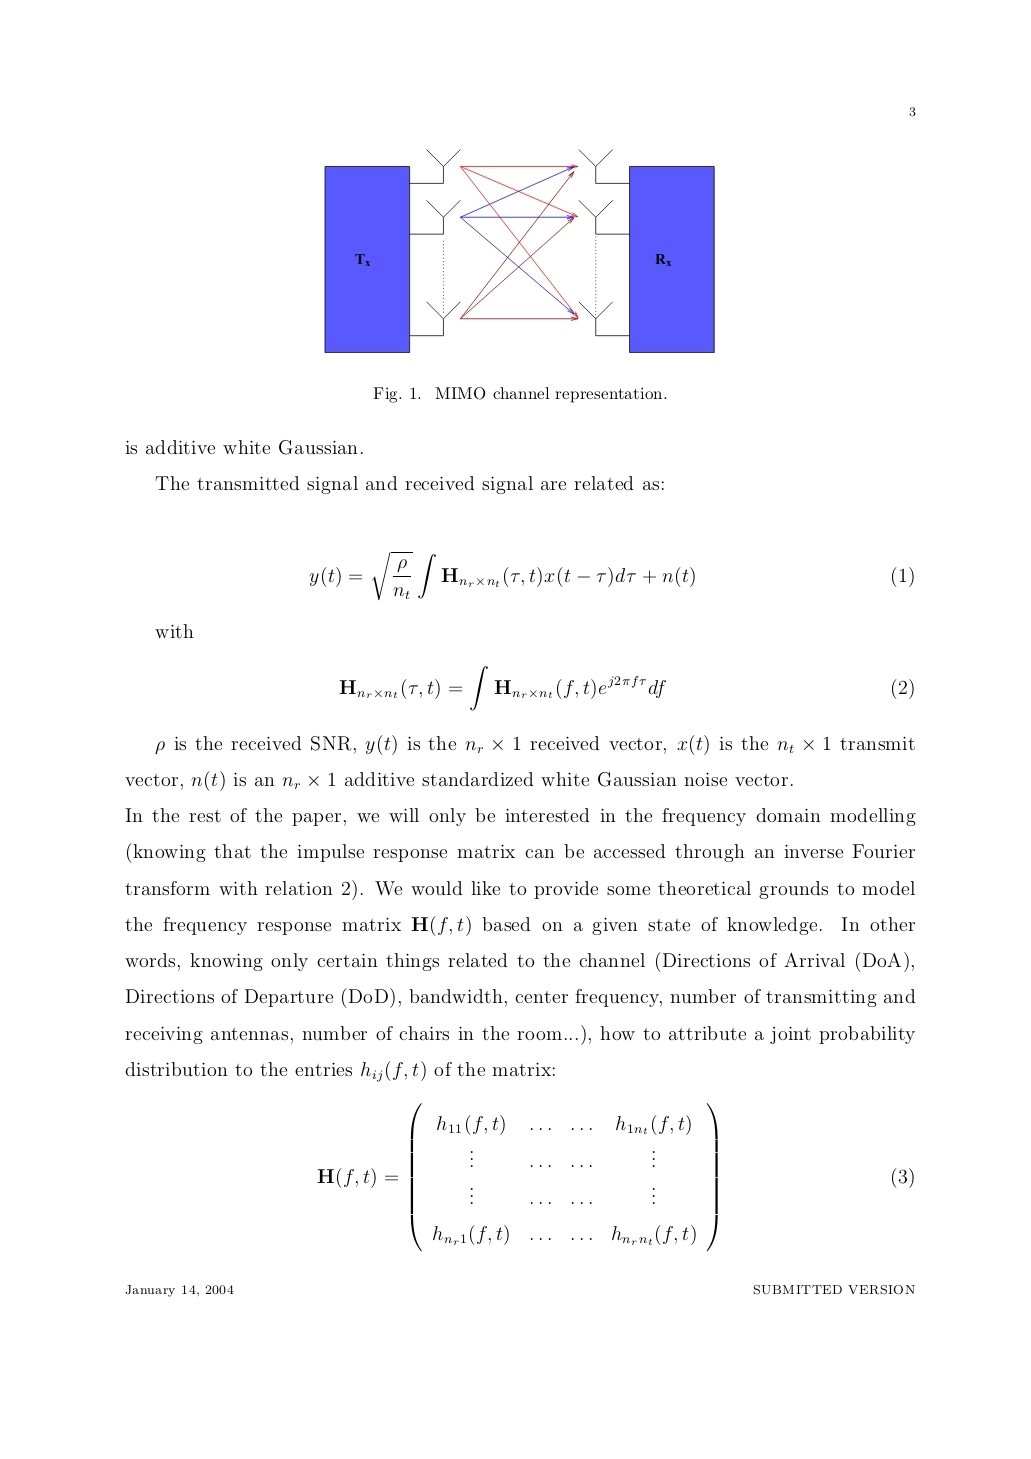figure: (324, 148, 714, 352)
formula: (317, 1102, 913, 1252), (309, 551, 913, 601), (339, 665, 913, 711)
